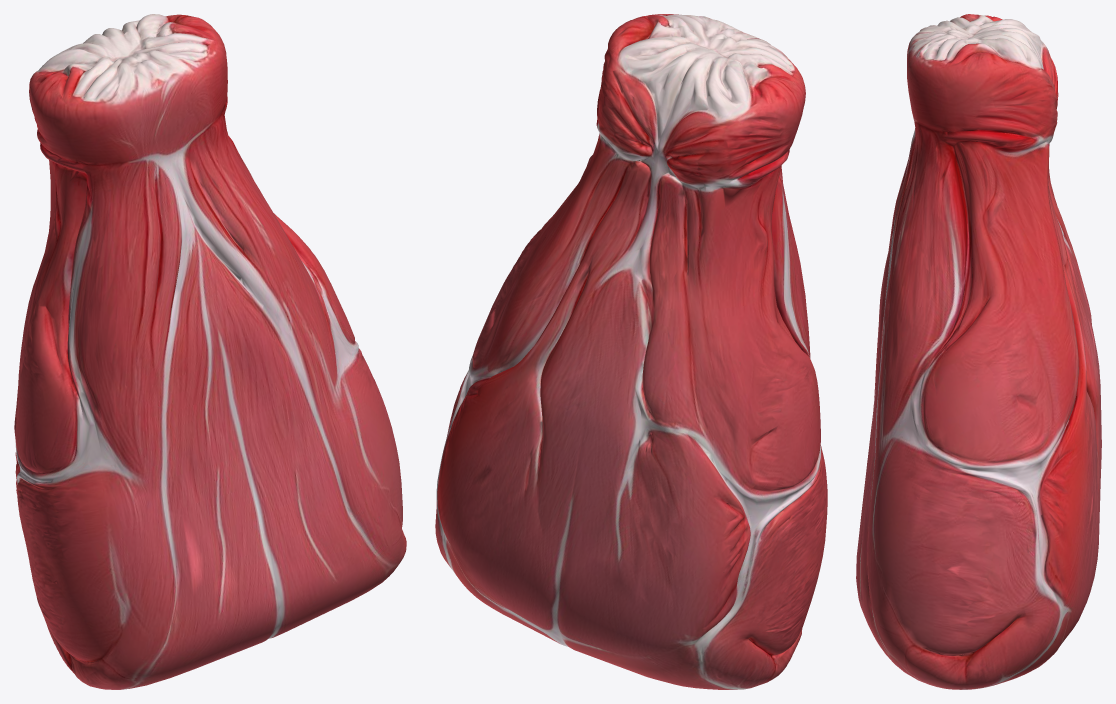
Rendered from brachialis.glb.
3 renders of one model, left to right at view 1: azimuth 30°, elevation 25°; view 2: azimuth 150°, elevation 25°; view 3: azimuth 270°, elevation 25°, orthographic. The views are drawn at different scales.
Parts seen in each view (by area): view 1: brachialis; view 2: brachialis; view 3: brachialis.
Part boxes in pixels (x1,y1,x2,y2): brachialis: (14,14,406,689); brachialis: (435,14,827,689); brachialis: (856,14,1101,689).
Bounding box in the file's own units: 0.5846 × 1 × 0.3666.
Materials: 1 (1 with a texture image).
